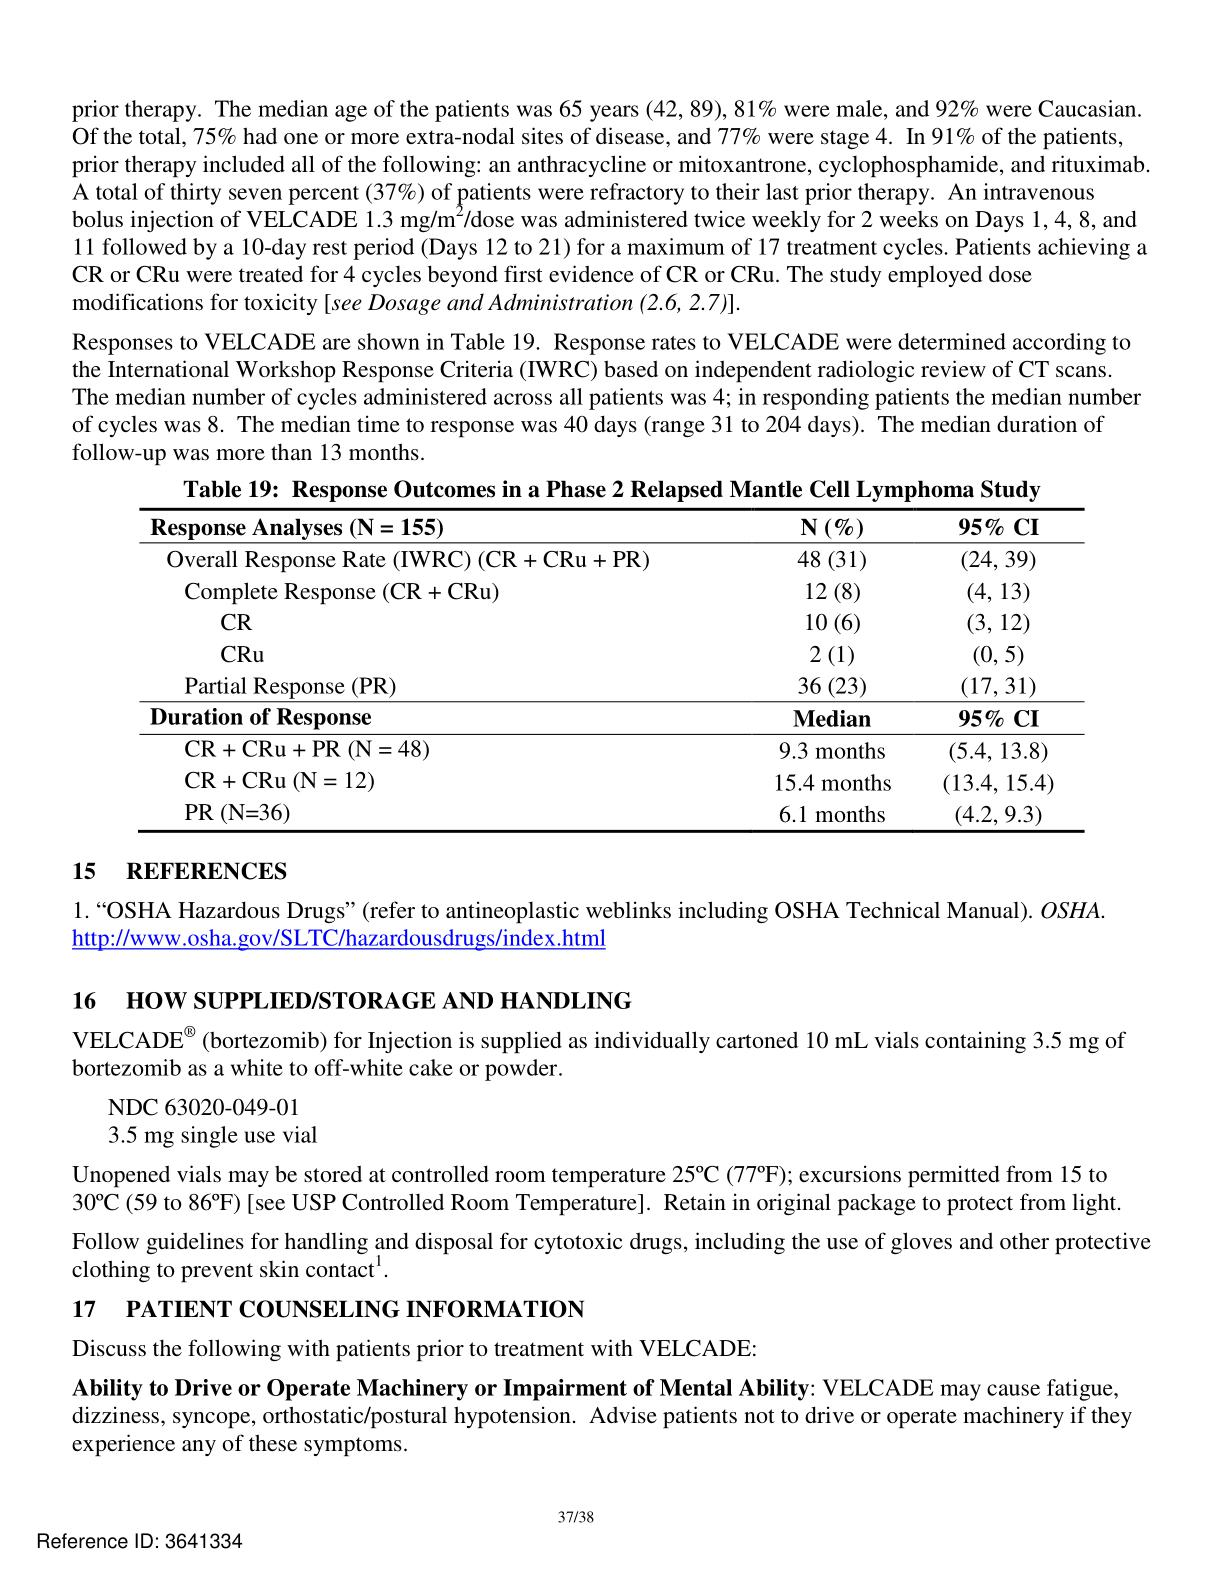partial_lined: (136, 507, 1086, 834)
